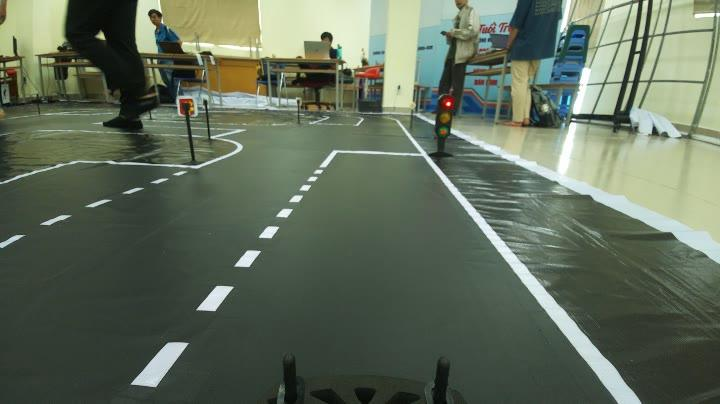trafficlight: (420, 88, 460, 162)
